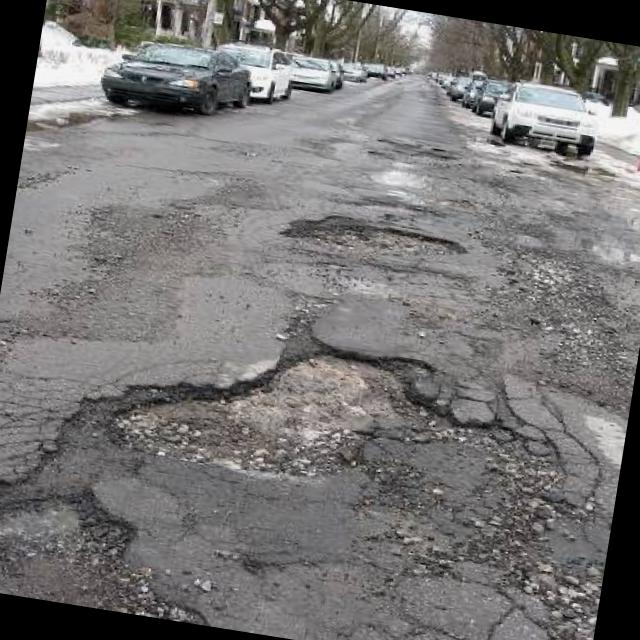bad-road: (96, 282, 630, 532), (0, 468, 229, 626), (278, 207, 472, 272), (366, 132, 468, 176)
